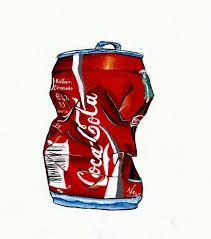metal: (37, 30, 158, 220)
